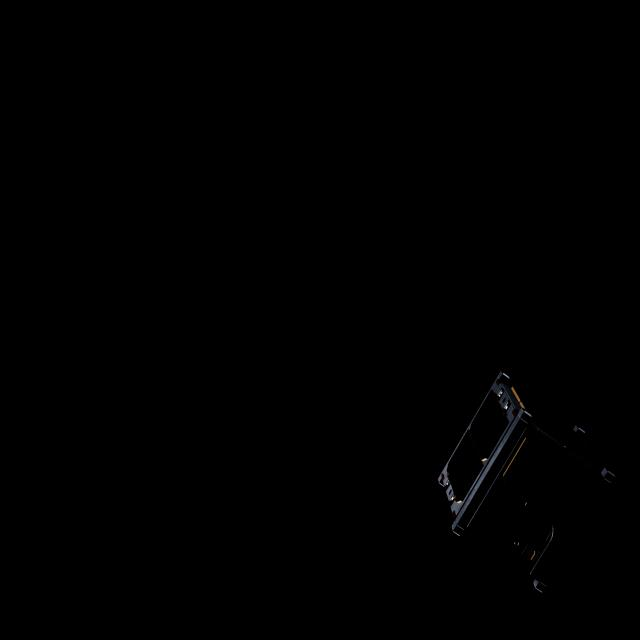satellite: (422, 367, 626, 602)
